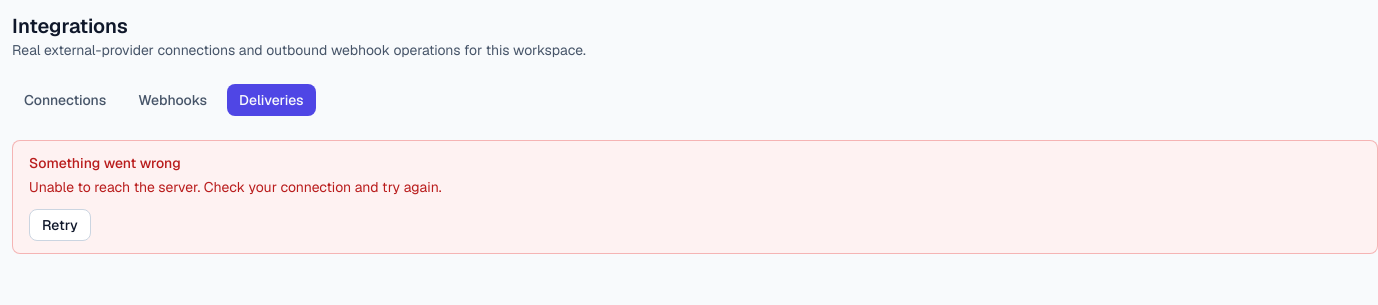
WebhookDeliveriesTab (via IntegrationsListPage) › shows a network-error state (not empty) and recovers via Retry
Expected: the text "Something went wrong" is shown, [29,154,181,172]
Click the button "Retry": (60, 225) [29,209,91,241]
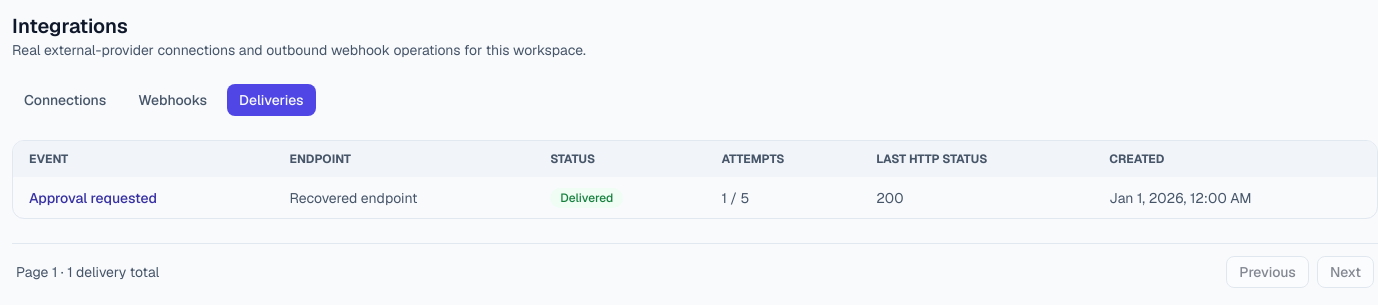
Now the text "Recovered endpoint" is shown, box [274,177,534,218]
